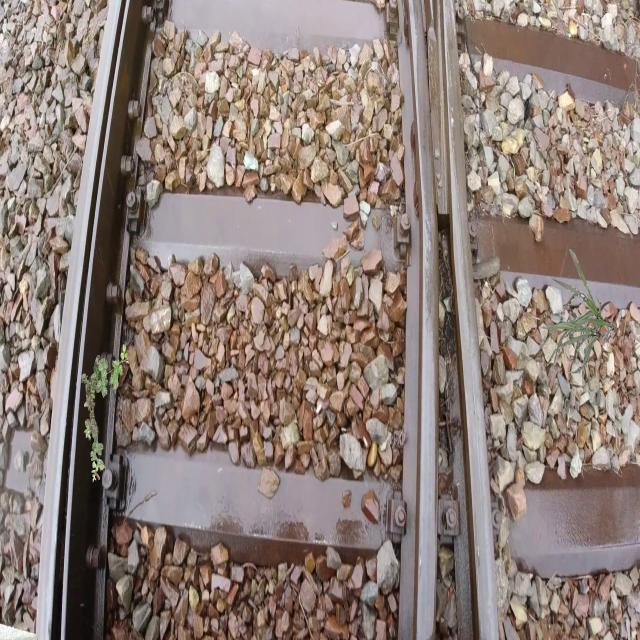Plant: (541, 249, 614, 374), (81, 345, 130, 483)
